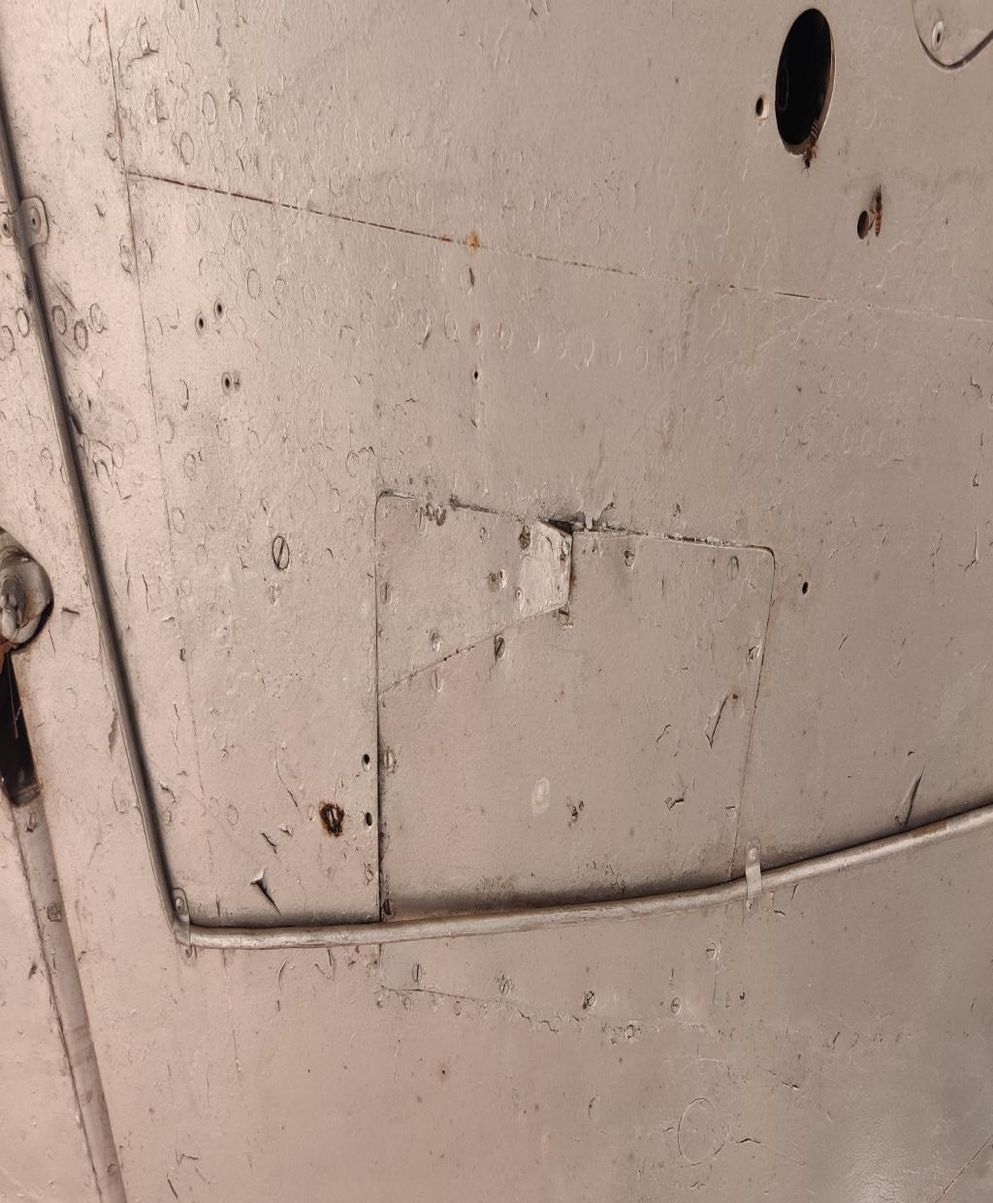corrosion: (893, 743, 929, 835), (250, 858, 284, 932), (856, 180, 885, 244), (319, 794, 346, 844)
crack: (547, 510, 579, 578)
